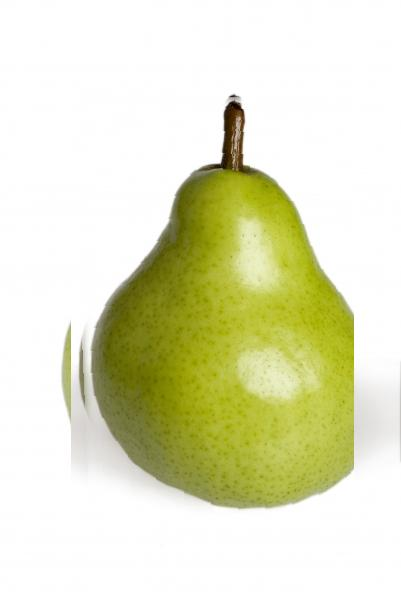Pear Fresh: (71, 91, 354, 514)
